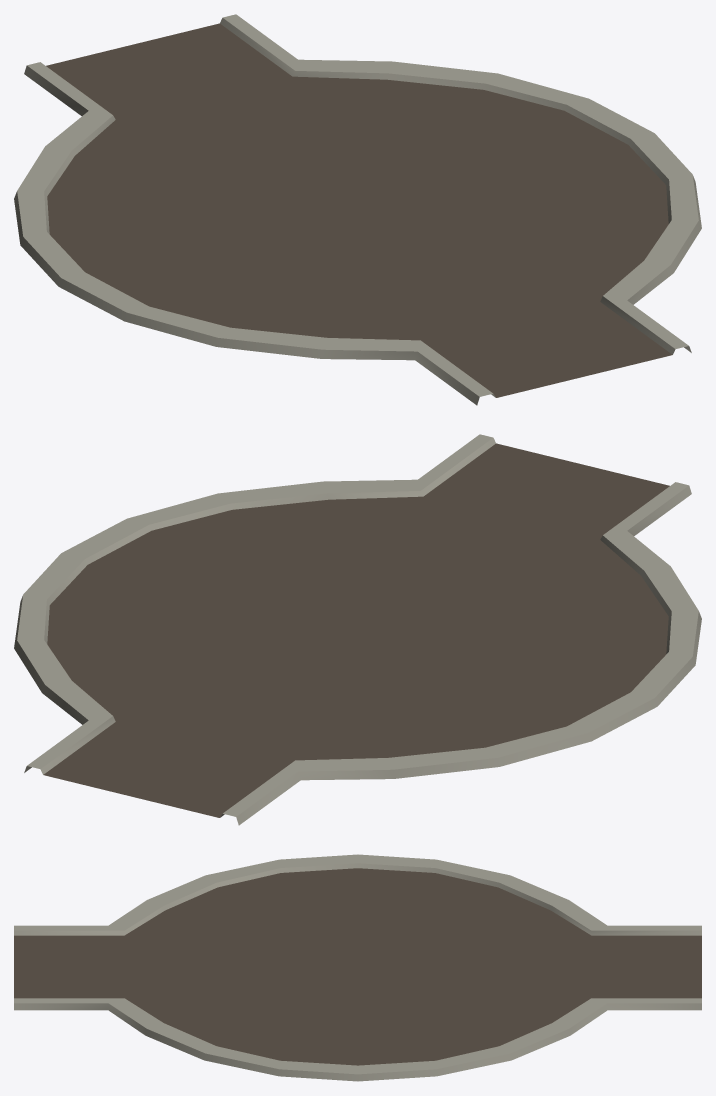
The model's file is ParkRoad_7_B.fbx.
The picture shows the model from 3 angles, top to bottom: view 1: azimuth 30°, elevation 25°; view 2: azimuth 150°, elevation 25°; view 3: azimuth 270°, elevation 25°; orthographic projection. The views are drawn at different scales.
Visible parts, largest first — view 1: ParkRoad_7_B; view 2: ParkRoad_7_B; view 3: ParkRoad_7_B.
Part boxes in pixels (bbox=[...]): ParkRoad_7_B: bbox=[14, 14, 701, 405]; ParkRoad_7_B: bbox=[14, 434, 701, 825]; ParkRoad_7_B: bbox=[14, 854, 701, 1081].
Bounding box in the file's own units: 558 × 7.16 × 731.
